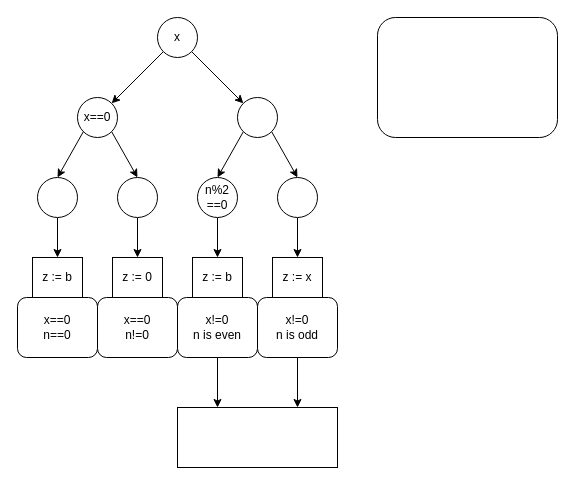
The diagram is 575 pixels wide and 485 high, and some of its shapes have lost their labels. Each missing label, with the box of its shape:
and then continue into for loop: (176, 406, 338, 468)
n!=0: (116, 176, 158, 218)
n%2 ==1: (276, 176, 318, 218)
n==0: (36, 176, 78, 218)
x!=0: (236, 96, 278, 138)
x: totalStabilityFeeRate n: now - _lastAccumulationTime b: RAY (10^27): (376, 16, 558, 138)
